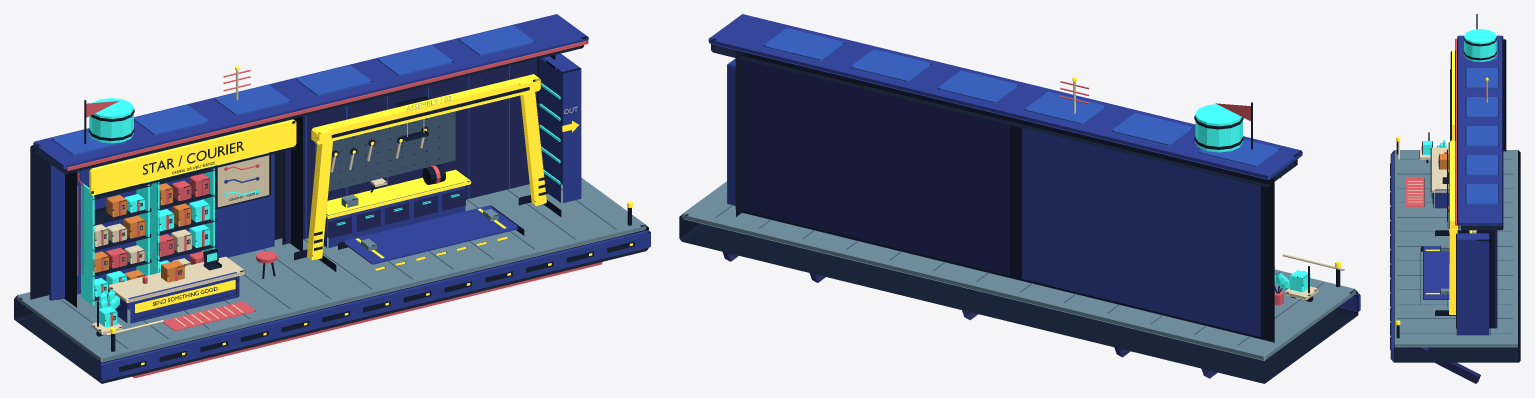
File: shop_cutaway.glb
3 renders of one model, left to right at view 1: azimuth 30°, elevation 25°; view 2: azimuth 150°, elevation 25°; view 3: azimuth 270°, elevation 25°, orthographic. The views are drawn at different scales.
Visible parts, largest first — view 1: shop_cutaway_Static; view 2: shop_cutaway_Static; view 3: shop_cutaway_Static.
Boxes of the visible parts, x1=… form: shop_cutaway_Static: x1=14, y1=14, x2=650, y2=383; shop_cutaway_Static: x1=679, y1=14, x2=1360, y2=383; shop_cutaway_Static: x1=1389, y1=14, x2=1520, y2=383.
Bounding box in the file's own units: 27 × 12.53 × 7.66.
